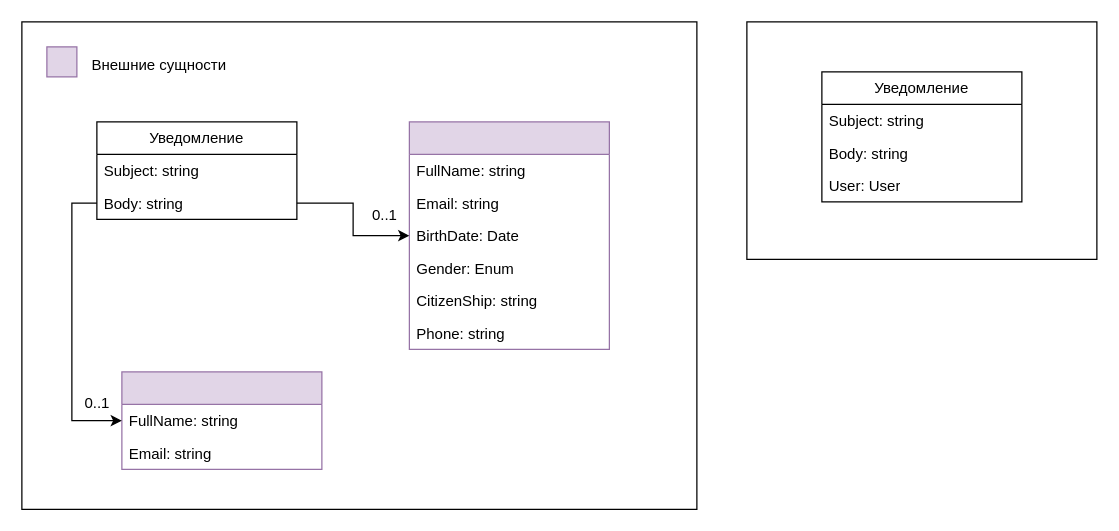
The diagram is 1119 pixels wide and 531 high, and some of its shapes have lost their labels. The shapes that lost their labels are listed below. From the top down, each one's box as (x1, y1, x2, y2) in pixels, then its label:
(408, 121, 609, 349): Абитуриент
(121, 371, 322, 469): Менеджер
